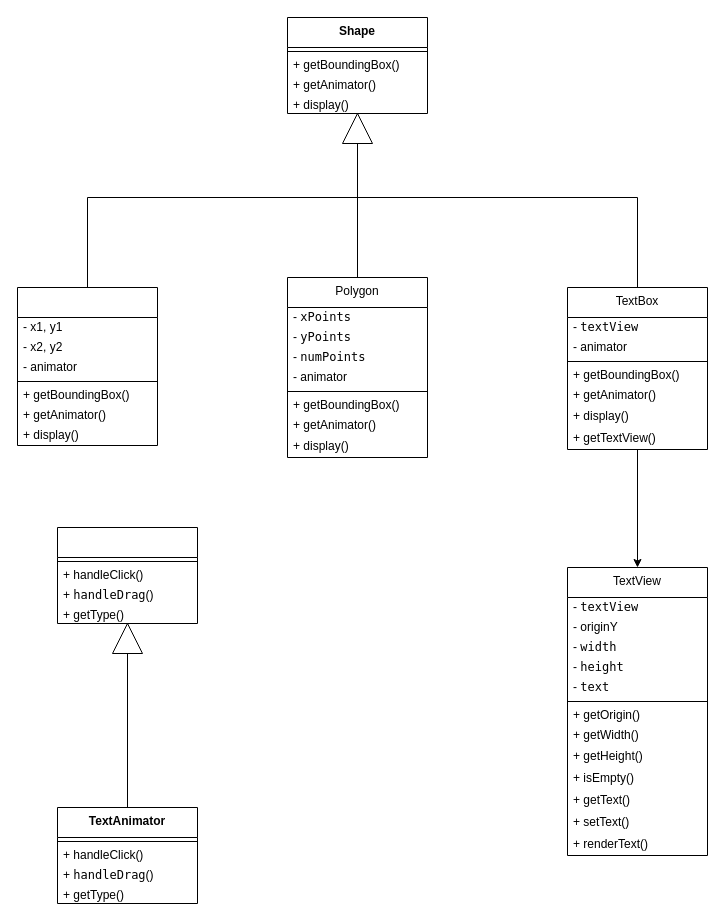
Some shapes in this 725 by 921 pixel diagram are drawn without their labels. The box of each missing label's shape, as (x1, y1, x2, y2) in pixels:
Animator: (56, 526, 198, 624)
Line: (16, 286, 158, 446)
